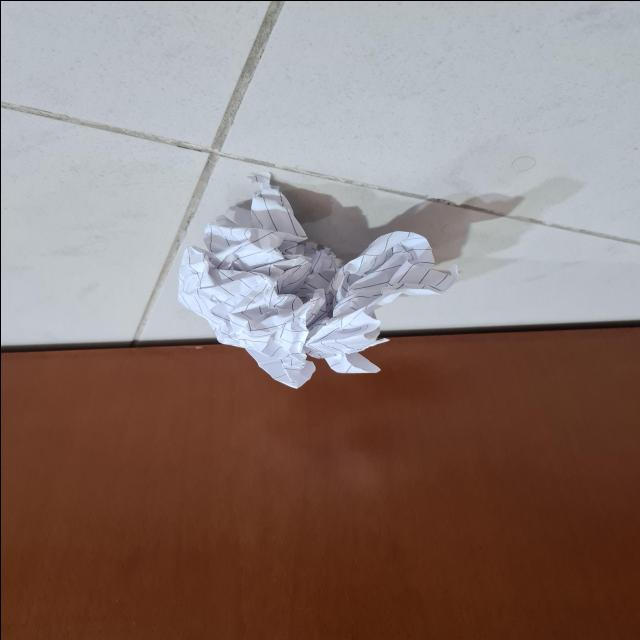kertas: (184, 184, 431, 384)
